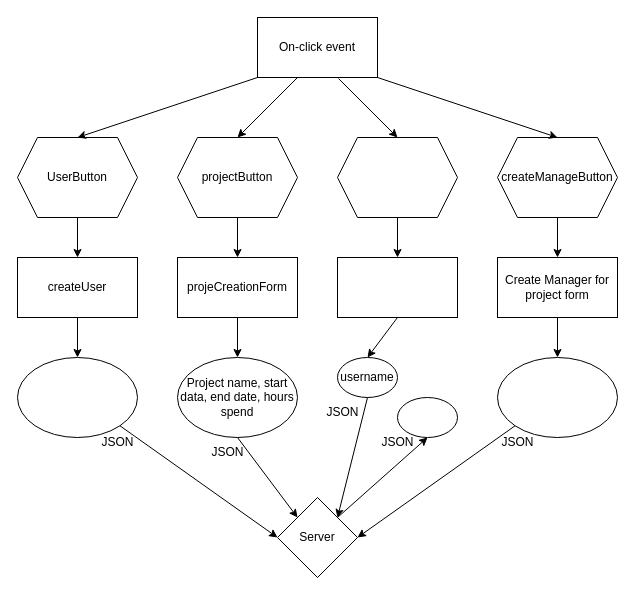
The diagram is 635 pixels wide and 595 high, and some of its shapes have lost their labels. The centre of each missing label's shape, as x and y in pixels:
searchUserLevel: pixel 397 287
User Level: pixel 427 417
userLevelButton: pixel 397 177
Username and Password: pixel 77 397
Username, project name: pixel 557 397
